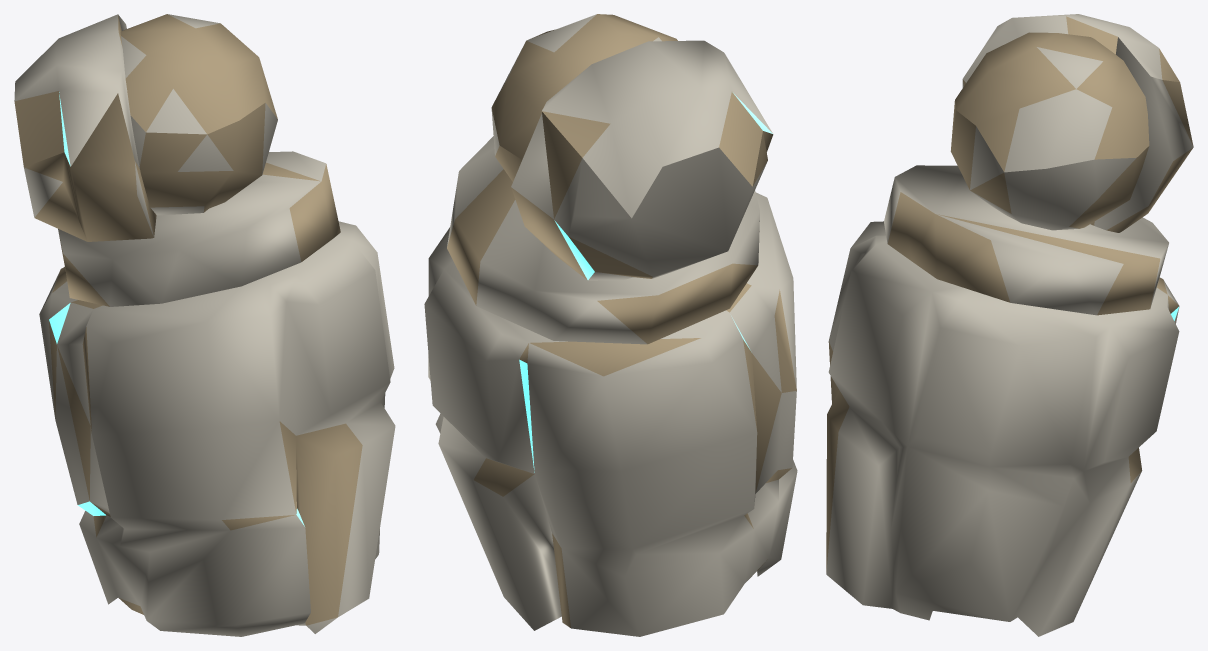
Rendered from BossUpperArm.glb.
3 renders of one model, left to right at view 1: azimuth 30°, elevation 25°; view 2: azimuth 150°, elevation 25°; view 3: azimuth 270°, elevation 25°, orthographic. The views are drawn at different scales.
Parts seen in each view (by area): view 1: BossUpperArm_Bend.004, PART_BossUpperArm.004; view 2: BossUpperArm_Bend.004, PART_BossUpperArm.004; view 3: BossUpperArm_Bend.004, PART_BossUpperArm.004.
Boxes of the visible parts, box(x1,y1,x2,y2) form: BossUpperArm_Bend.004: box(24, 14, 395, 636); PART_BossUpperArm.004: box(14, 14, 277, 168); BossUpperArm_Bend.004: box(424, 109, 797, 636); PART_BossUpperArm.004: box(491, 14, 772, 218); BossUpperArm_Bend.004: box(826, 37, 1193, 636); PART_BossUpperArm.004: box(955, 14, 1179, 225).
Size of the model in its own units: 0.6111 by 1.08 by 0.6461.
